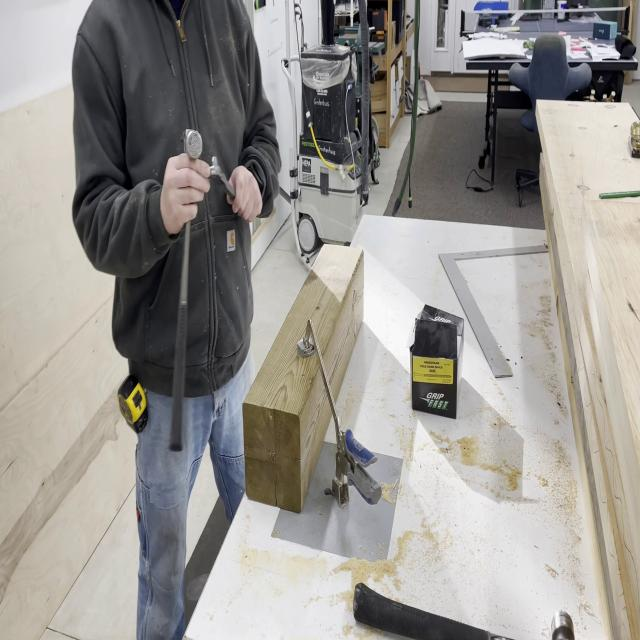hammer: (169, 128, 203, 452)
